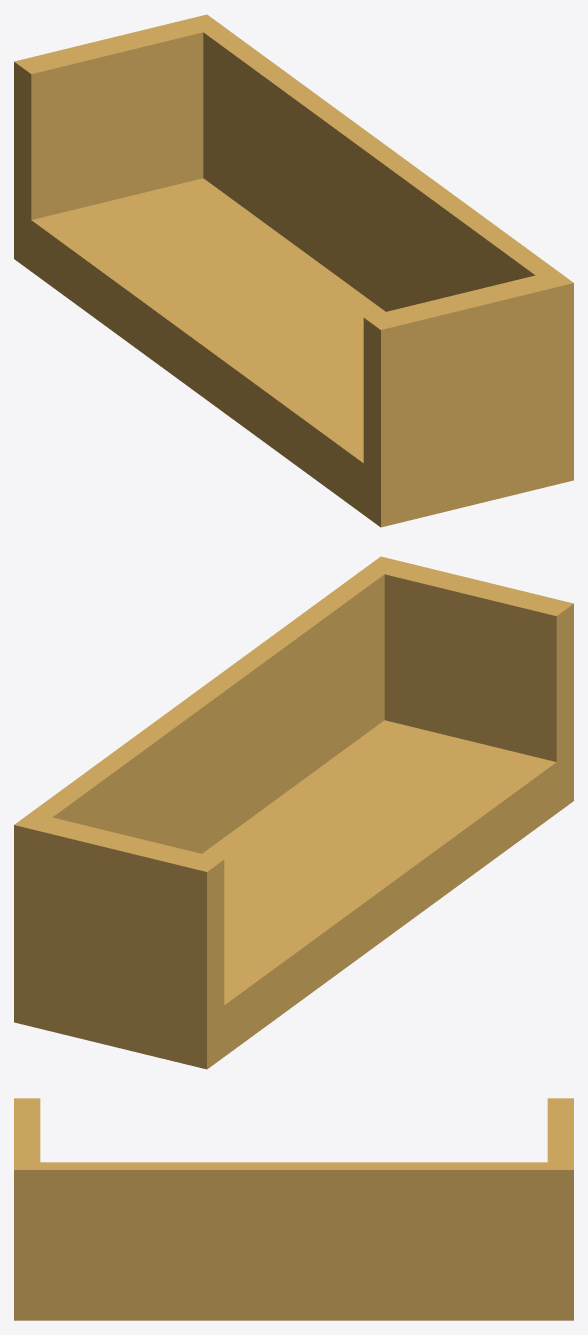
Rendered from Balcony.fbx.
3 views of the same model, one above another, from view 1: azimuth 30°, elevation 25°; view 2: azimuth 150°, elevation 25°; view 3: azimuth 270°, elevation 25° (orthographic). The views are drawn at different scales.
Visible parts, largest first — view 1: Balcony; view 2: Balcony; view 3: Balcony.
Part boxes in pixels (box(x1,y1,x2,y2)): Balcony: box(14, 14, 573, 527); Balcony: box(14, 556, 573, 1069); Balcony: box(14, 1098, 573, 1320).
Bounding box in the file's own units: 0.608 × 0.5939 × 2.
